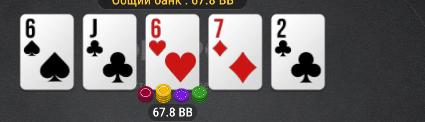2c: (273, 15, 325, 89)
6h: (148, 16, 199, 88)
6s: (21, 16, 73, 89)
7d: (210, 15, 261, 89)
Jc: (85, 16, 135, 89)
